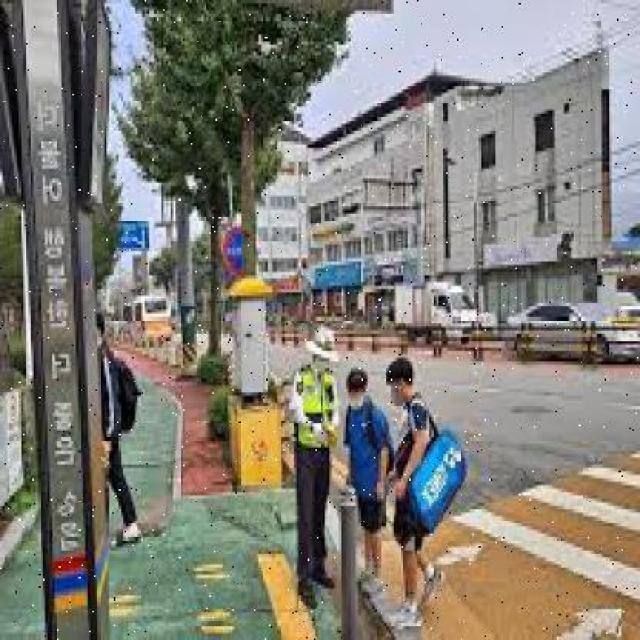Person: (292, 323, 338, 609), (341, 367, 392, 598), (391, 356, 432, 629)
